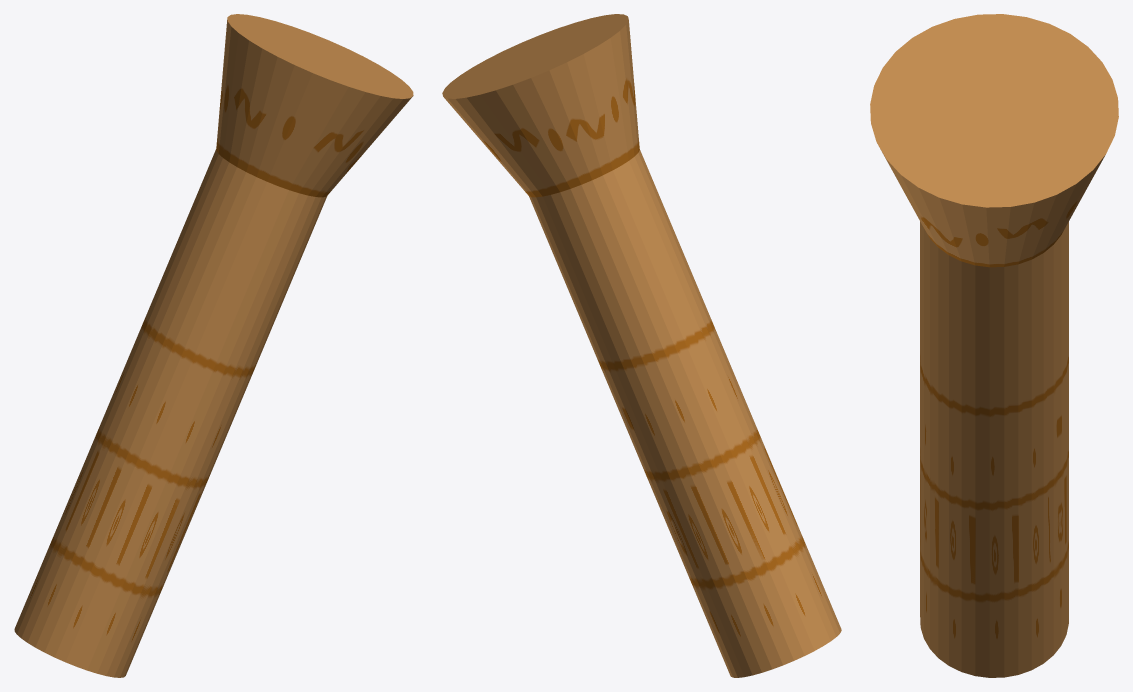
The model's file is collumn.obj.
The picture shows the model from 3 angles, left to right: view 1: azimuth 30°, elevation 25°; view 2: azimuth 150°, elevation 25°; view 3: azimuth 270°, elevation 25°; orthographic projection. The views are drawn at different scales.
Parts seen in each view (by area): view 1: Cylinder.003; view 2: Cylinder.003; view 3: Cylinder.003.
Boxes of the visible parts, <box> form: Cylinder.003: <box>14,14,413,677</box>; Cylinder.003: <box>442,14,841,677</box>; Cylinder.003: <box>870,14,1118,677</box>.
Bounding box in the file's own units: 1.21 × 1.84 × 0.5622.
1 material, 1 textured.
